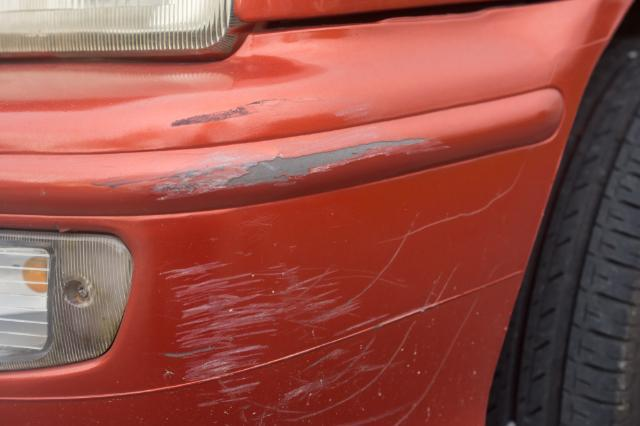scratch: (161, 180, 519, 426), (124, 93, 473, 208)
